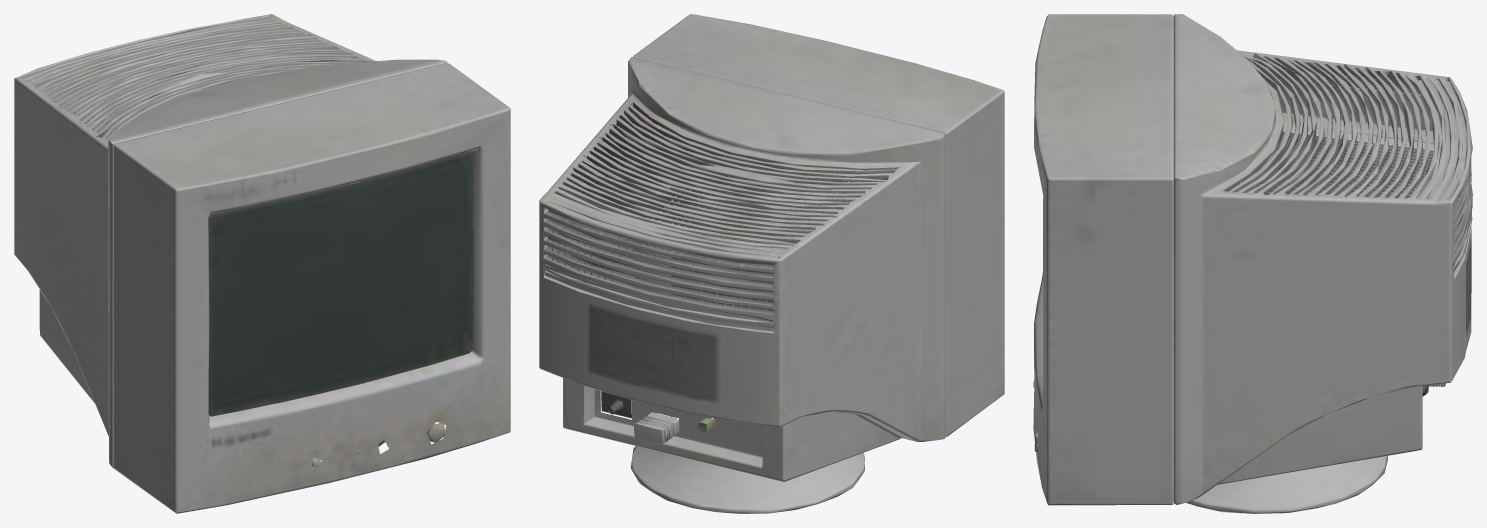
The model's file is SM_ComputerMonitor_A02_N1.glb.
The picture shows the model from 3 angles, left to right: view 1: azimuth 30°, elevation 25°; view 2: azimuth 150°, elevation 25°; view 3: azimuth 270°, elevation 25°; orthographic projection. The views are drawn at different scales.
Visible parts, largest first — view 1: SM_ComputerMonitor_A02_N1; view 2: SM_ComputerMonitor_A02_N1; view 3: SM_ComputerMonitor_A02_N1.
Part boxes in pixels (bbox=[...]): SM_ComputerMonitor_A02_N1: bbox=[14, 14, 510, 513]; SM_ComputerMonitor_A02_N1: bbox=[539, 14, 1004, 513]; SM_ComputerMonitor_A02_N1: bbox=[1033, 14, 1472, 513].
Bounding box in the file's own units: 0.3671 × 0.3799 × 0.4134.
Materials: 1 (1 with a texture image).
